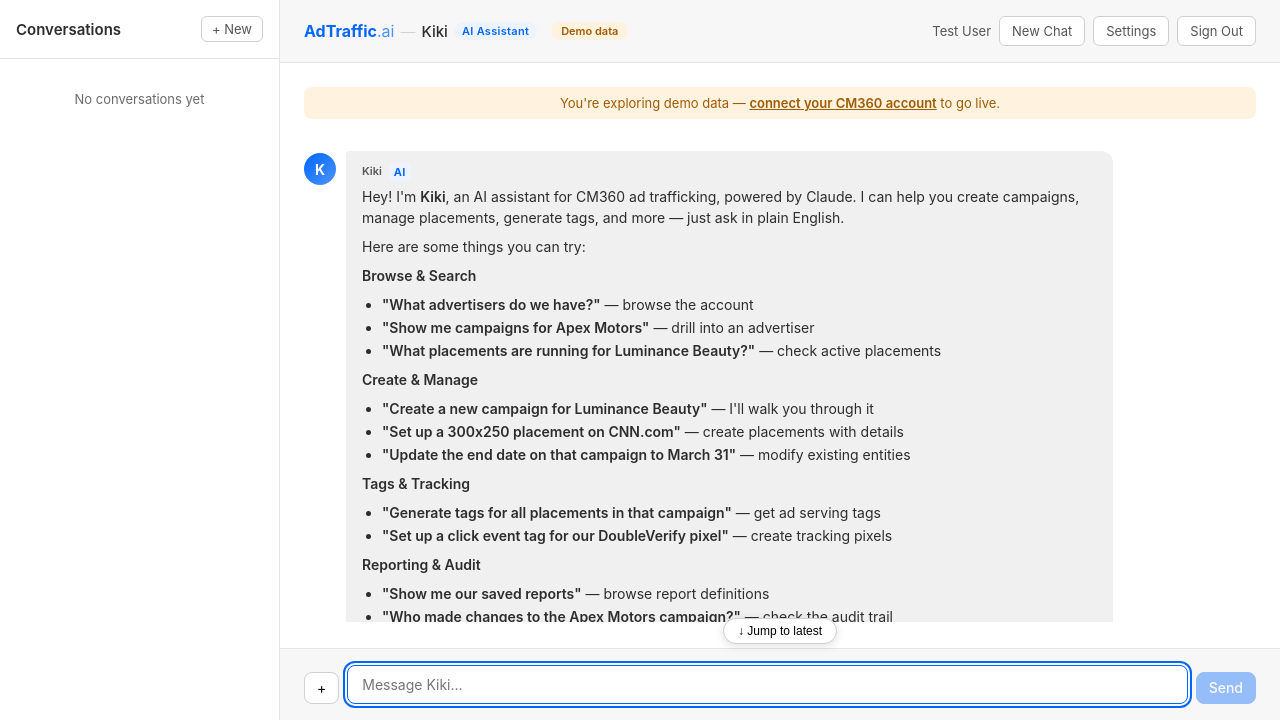
Test: Chat Code Block Copy › renders copy button on code blocks in assistant messages
The image size is (1280, 720).
Step 1. Type "Show me a tag" into the text box with placeholder "Message Kiki..." → coordinates (768, 684), box [347, 665, 1188, 704]
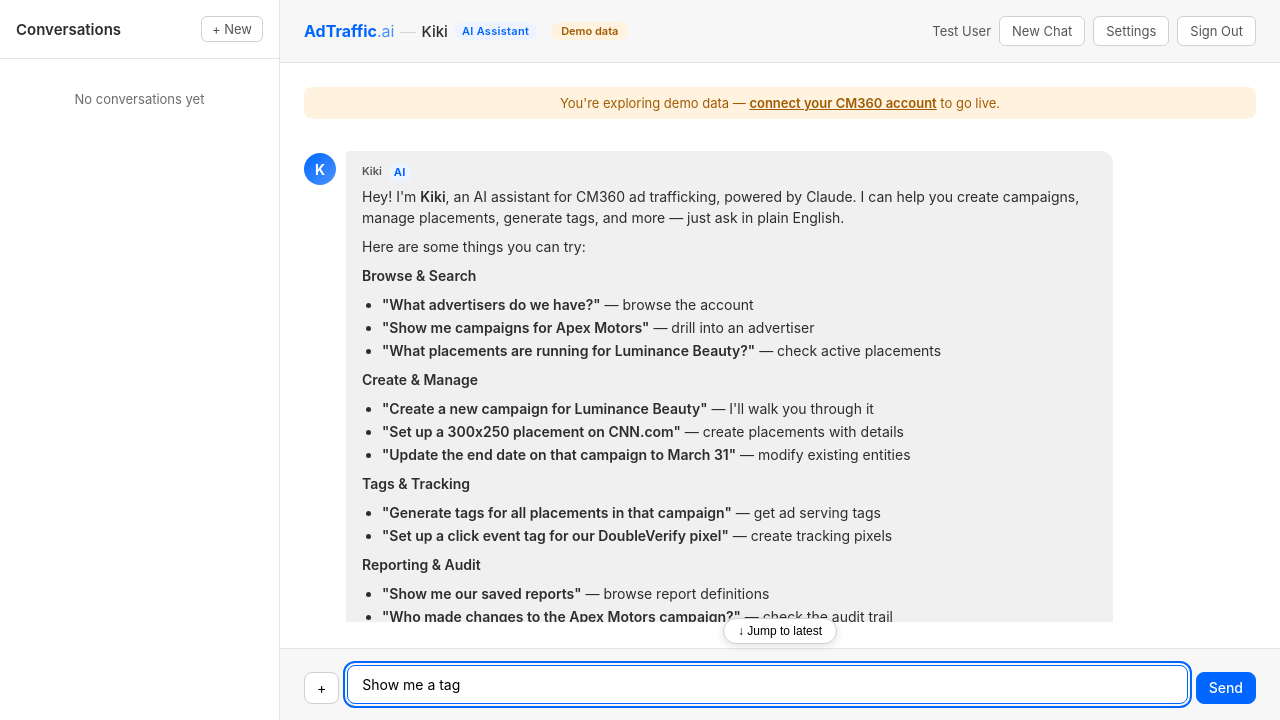
Step 2. Click the button "Send" → coordinates (1226, 688), box [1196, 672, 1256, 704]
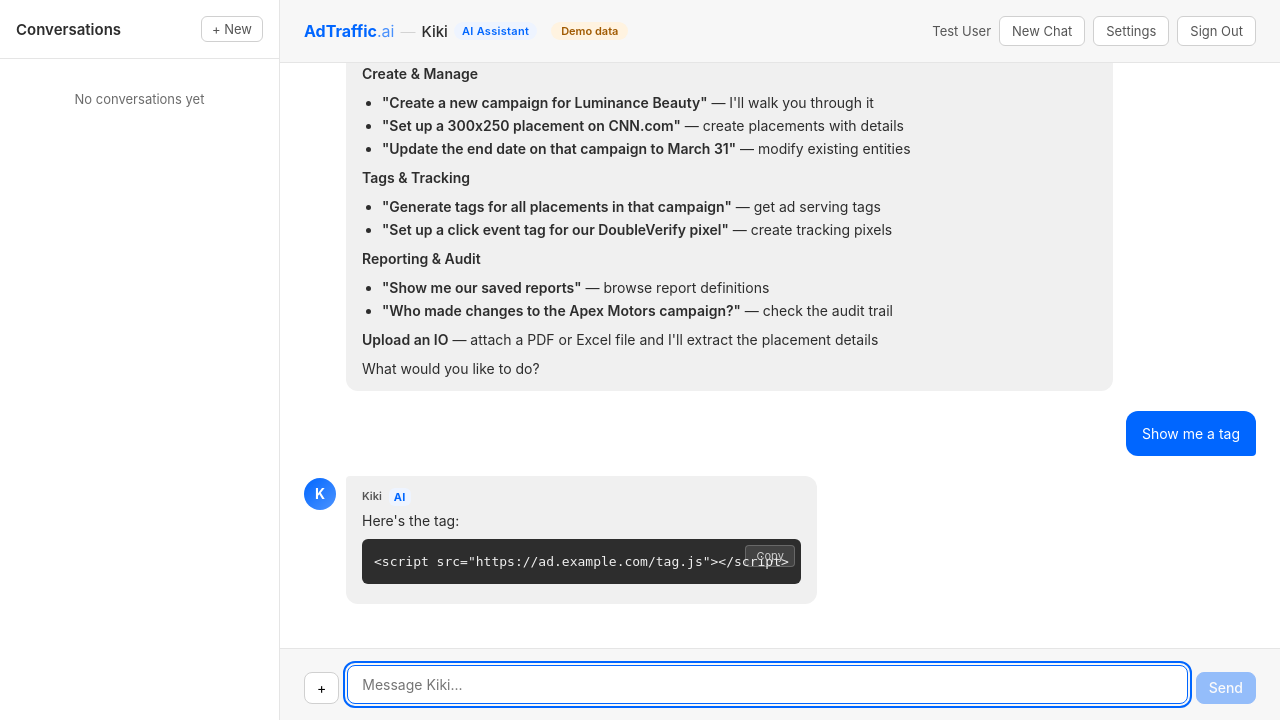
Expected: the button with aria-label "Copy code" is shown, [746, 545, 795, 567]
